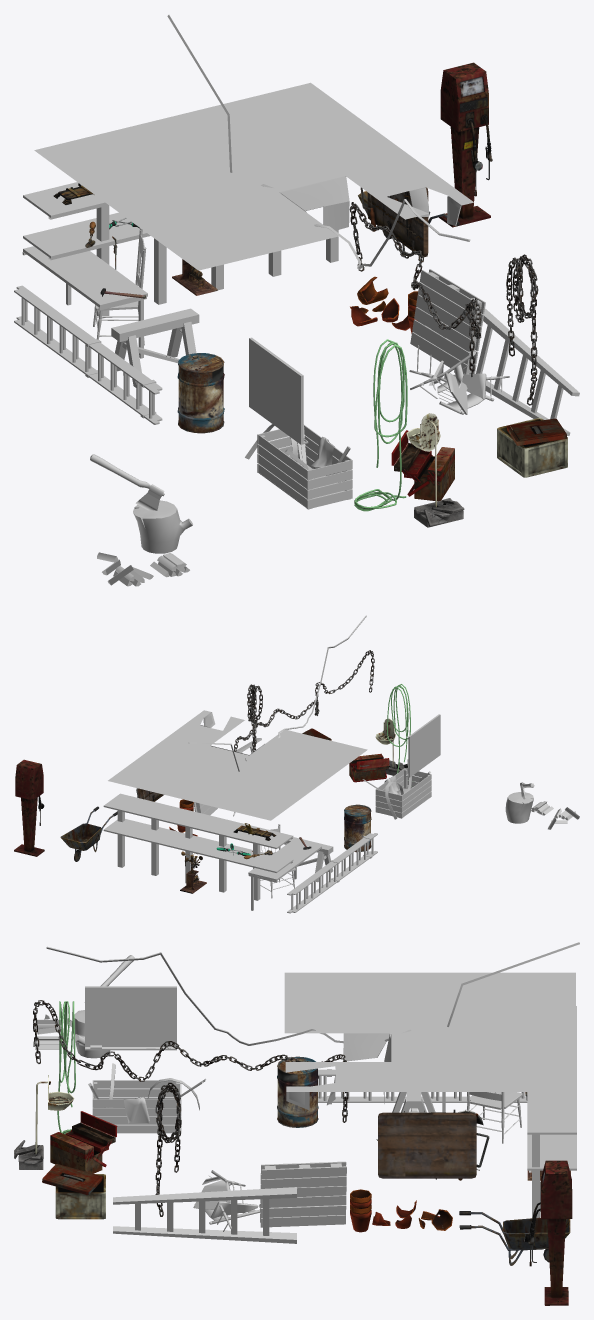
Rendered from The Shed Elements.fbx.
The picture shows the model from 3 angles, top to bottom: view 1: azimuth 30°, elevation 25°; view 2: azimuth 150°, elevation 25°; view 3: azimuth 270°, elevation 25°; orthographic projection. The views are drawn at different scales.
Parts seen in each view (by area): view 1: Plafond, Etagere, Caisse, Vielle Pompe a Essence, Grande Echelle, Palette, Tableau, Table a 2pieds, Gros Bidon, Plastic Box, Petite Echelle, Tretaux (+14 smaller); view 2: Plafond, Etagere, Caisse, Vielle Pompe a Essence, Grande Echelle, Tableau, Table a 2pieds, Gros Bidon, Brouette, Tool Box, Chaine A, Tuyaux (+6 smaller); view 3: Plafond, Tools Panel, Tableau, Palette, Petite Echelle, Caisse, Etagere, Vielle Pompe a Essence, Tool Box, Plastic Box, Chaine A, Gros Bidon (+12 smaller).
Part boxes in pixels (x1=…): Plafond: x1=34, y1=82, x2=473, y2=270; Etagere: x1=23, y1=182, x2=338, y2=318; Caisse: x1=245, y1=424, x2=352, y2=509; Vielle Pompe a Essence: x1=439, y1=62, x2=492, y2=227; Grande Echelle: x1=14, y1=285, x2=162, y2=424; Palette: x1=410, y1=269, x2=485, y2=374; Tableau: x1=249, y1=337, x2=308, y2=444; Table a 2pieds: x1=22, y1=246, x2=147, y2=358; Gros Bidon: x1=177, y1=353, x2=224, y2=433; Plastic Box: x1=497, y1=417, x2=567, y2=477; Petite Echelle: x1=454, y1=308, x2=579, y2=435; Tretaux: x1=111, y1=308, x2=199, y2=387; Plafond: x1=108, y1=710, x2=367, y2=820; Etagere: x1=103, y1=793, x2=293, y2=900; Caisse: x1=362, y1=759, x2=431, y2=819; Vielle Pompe a Essence: x1=14, y1=759, x2=44, y2=856; Grande Echelle: x1=287, y1=833, x2=377, y2=913; Tableau: x1=405, y1=714, x2=440, y2=777; Table a 2pieds: x1=248, y1=839, x2=322, y2=910; Gros Bidon: x1=344, y1=804, x2=371, y2=852; Brouette: x1=60, y1=806, x2=117, y2=861; Tool Box: x1=349, y1=753, x2=389, y2=782; Chaine A: x1=234, y1=650, x2=374, y2=751; Tuyaux: x1=387, y1=684, x2=412, y2=786; Plafond: x1=284, y1=972, x2=575, y2=1110; Tools Panel: x1=376, y1=1110, x2=479, y2=1178; Tableau: x1=85, y1=986, x2=176, y2=1050; Palette: x1=260, y1=1161, x2=346, y2=1227; Petite Echelle: x1=113, y1=1187, x2=296, y2=1243; Caisse: x1=88, y1=1063, x2=206, y2=1133; Etagere: x1=527, y1=1006, x2=576, y2=1218; Vielle Pompe a Essence: x1=524, y1=1160, x2=572, y2=1305; Tool Box: x1=50, y1=1111, x2=117, y2=1173; Plastic Box: x1=42, y1=1164, x2=105, y2=1219; Chaine A: x1=33, y1=1000, x2=348, y2=1122; Gros Bidon: x1=277, y1=1056, x2=318, y2=1127.
Bounding box in the file's own units: 1103 × 436 × 920.
